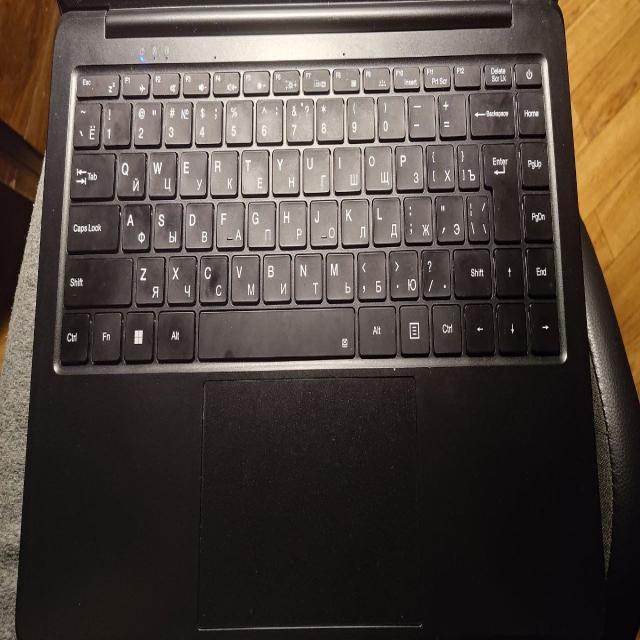other: (197, 260, 232, 310), (486, 82, 520, 125), (222, 342, 238, 364)
